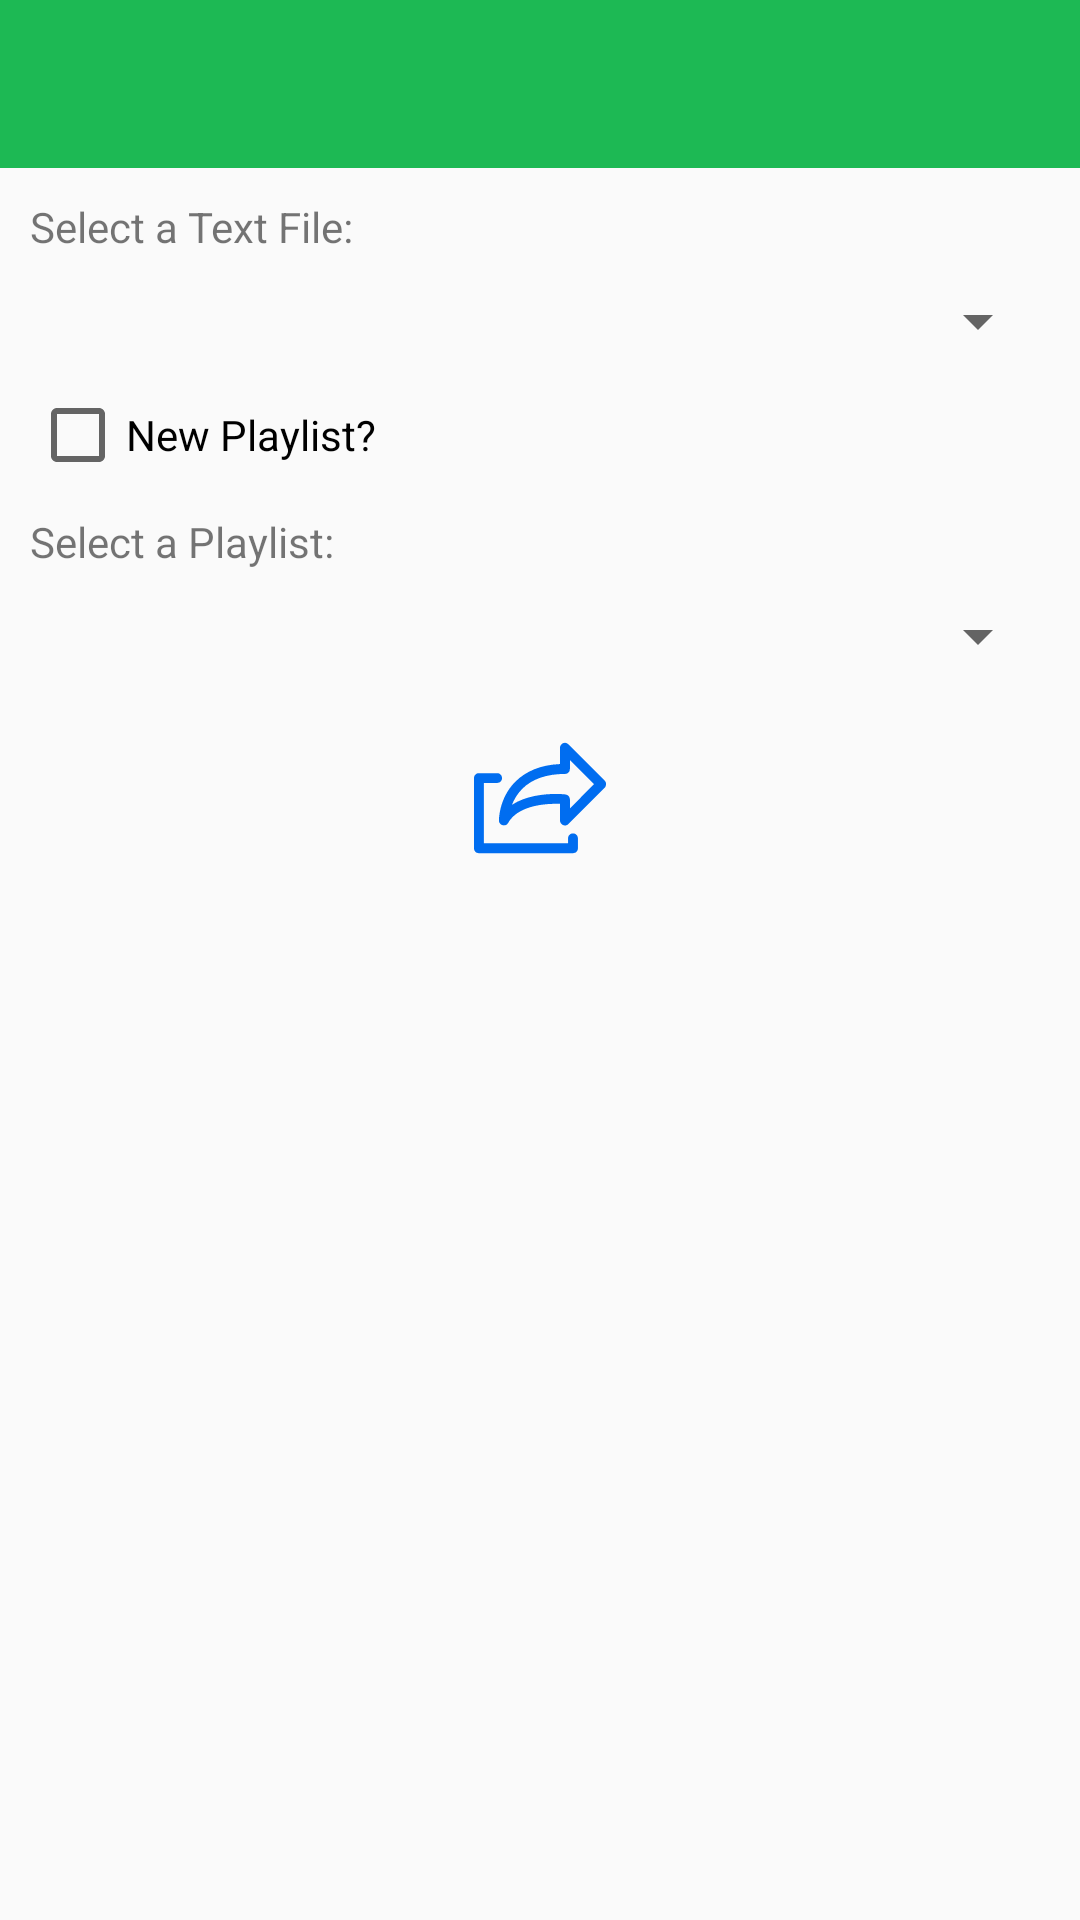

Icon click points for this 1080 x 1920 phone screenshot, format [x,y]:
export: [540,798]
